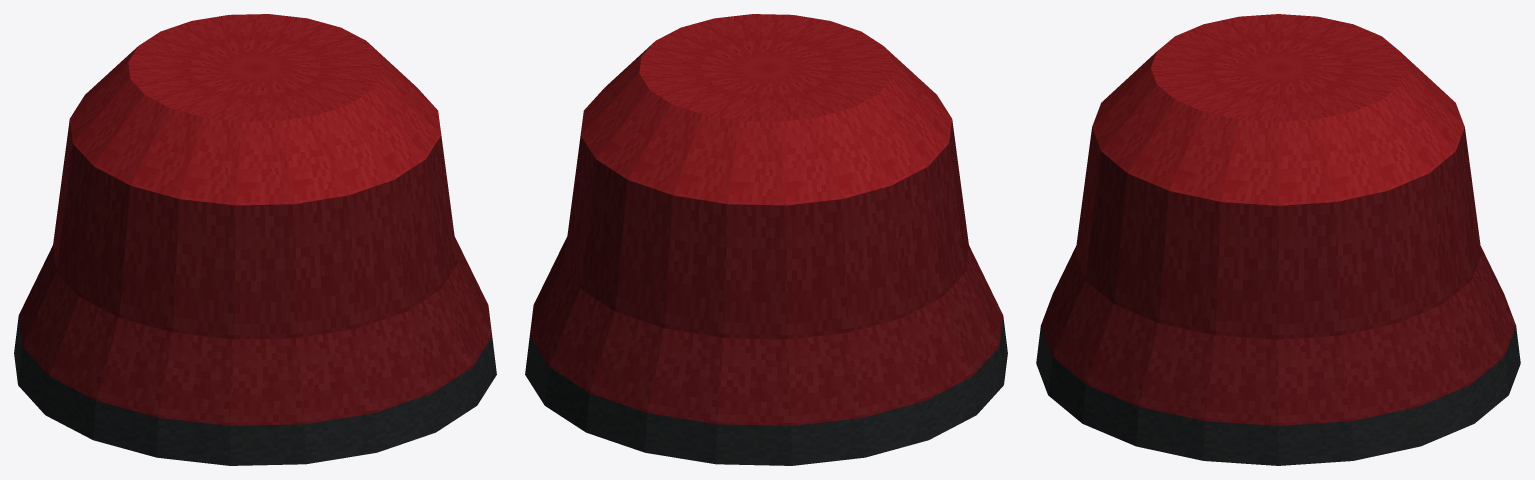
File: check_off.obj
3 views of the same model, side by side, from view 1: azimuth 30°, elevation 25°; view 2: azimuth 150°, elevation 25°; view 3: azimuth 270°, elevation 25° (orthographic).
Visible parts, largest first — view 1: pedal; view 2: pedal; view 3: pedal.
Boxes of the visible parts, x1=… form: pedal: x1=14, y1=14, x2=496, y2=465; pedal: x1=525, y1=14, x2=1007, y2=465; pedal: x1=1036, y1=14, x2=1520, y2=465.
Bounding box in the file's own units: 0.0325 × 0.0219 × 0.0325.
